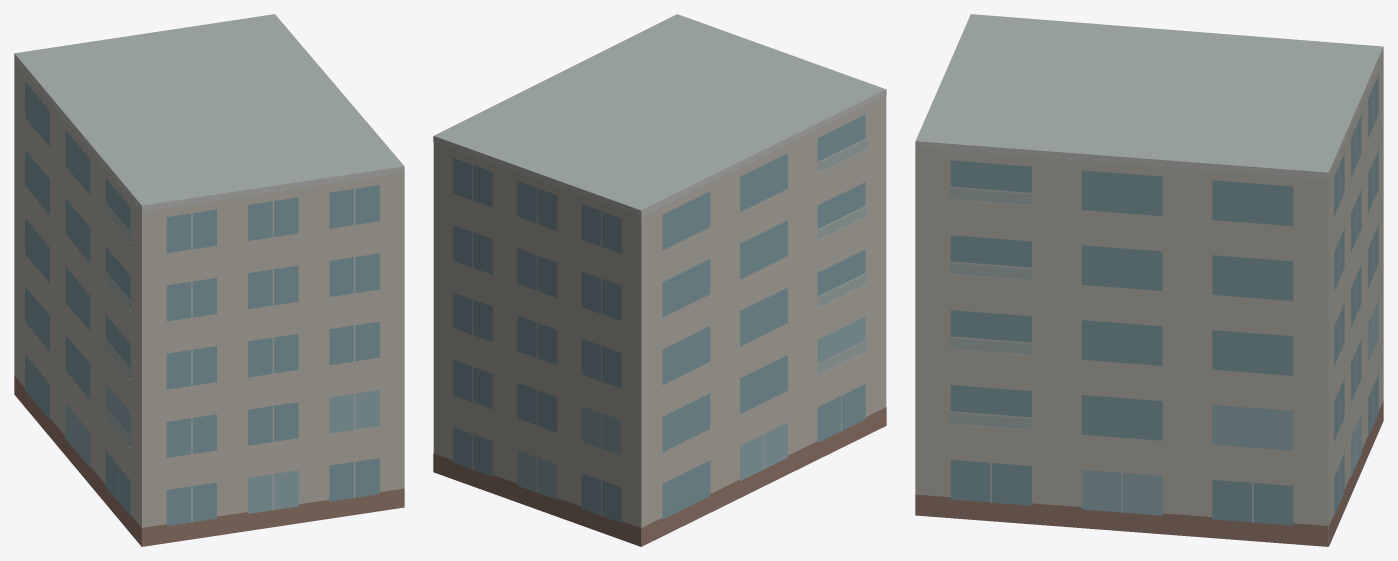
File: survey-upis-32884245.glb
3 views of the same model, side by side, from view 1: azimuth 30°, elevation 25°; view 2: azimuth 150°, elevation 25°; view 3: azimuth 270°, elevation 25° (orthographic). The views are drawn at different scales.
Parts seen in each view (by area): view 1: survey-upis-32884245.tmp; view 2: survey-upis-32884245.tmp; view 3: survey-upis-32884245.tmp.
Part boxes in pixels (x1=…): survey-upis-32884245.tmp: x1=14, y1=14, x2=404, y2=546; survey-upis-32884245.tmp: x1=433, y1=14, x2=886, y2=546; survey-upis-32884245.tmp: x1=915, y1=14, x2=1383, y2=546.
Size of the model in its own units: 12.28 by 13.5 by 15.31.
